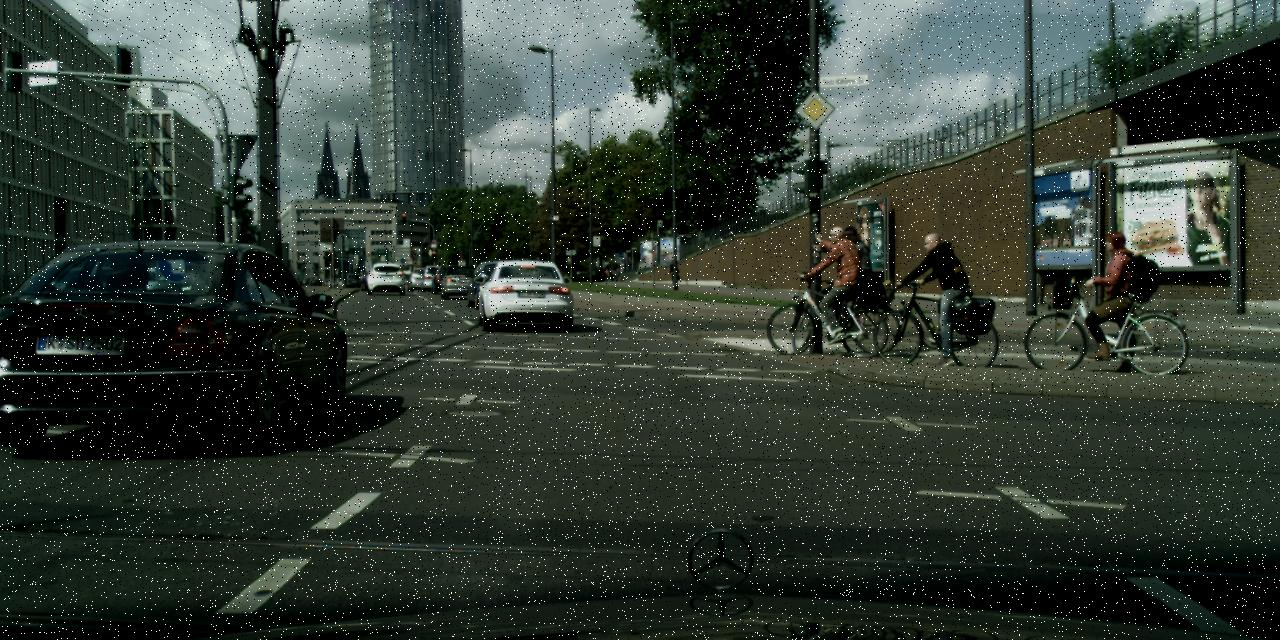ped: (796, 225, 896, 344), (1090, 231, 1144, 364), (914, 232, 964, 352), (668, 260, 678, 284), (604, 268, 608, 280)
